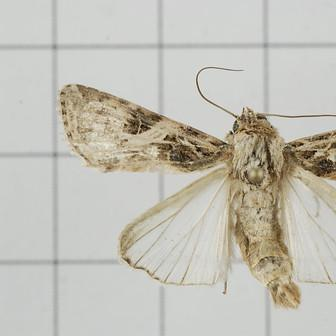Spodoptera litura: (58, 67, 336, 311)
